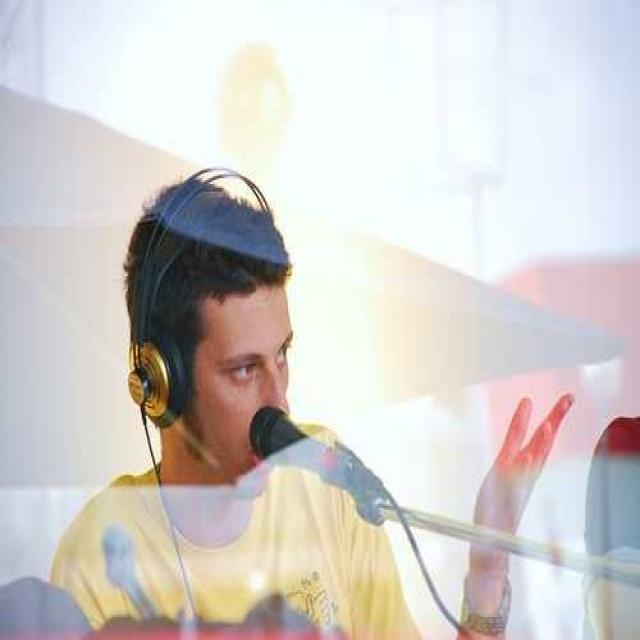microphone: (246, 404, 389, 520)
